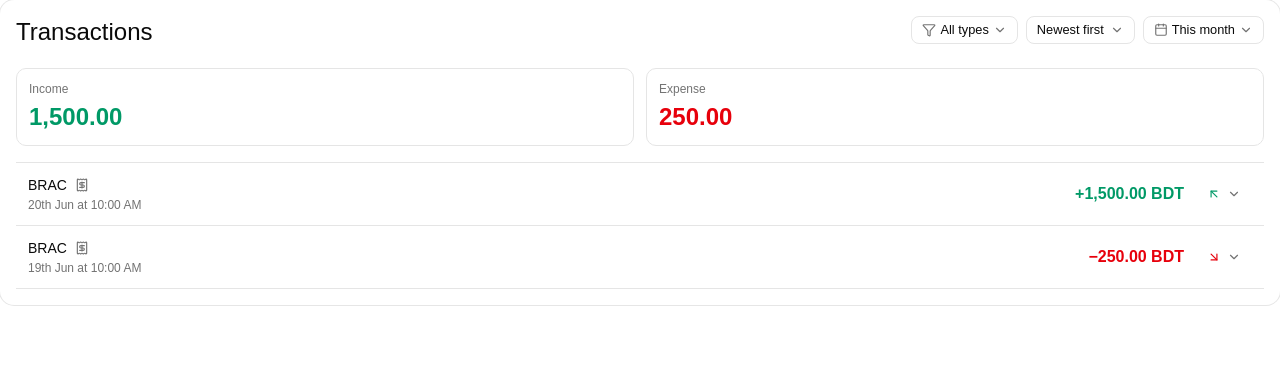
Scenario: TransactionsSection › expands a transaction row to show its source message
Expected: the text "+1,500.00 BDT" is shown, 1075,182 -> 1184,206
Click the button with aria-label "toggle message for brac" at {"x": 47, "y": 185}, box 28,177 -> 1252,212
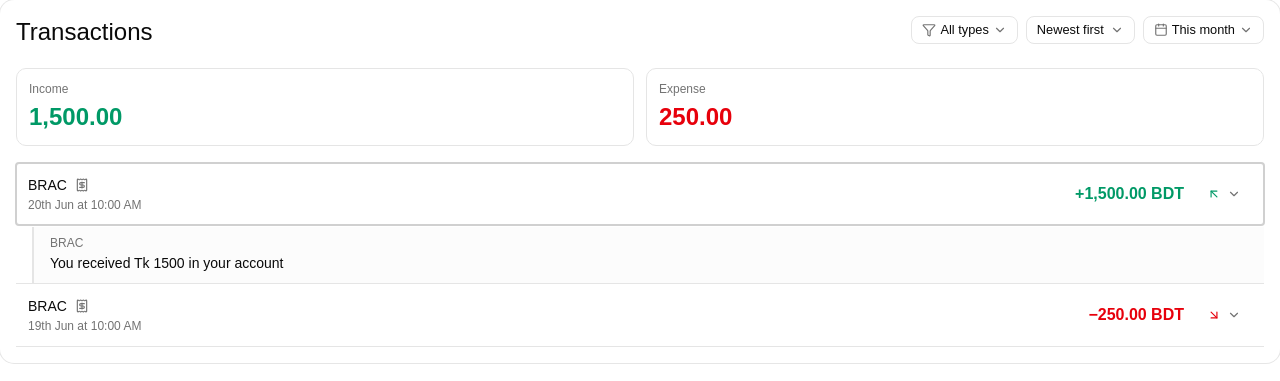
Expected: the text "You received Tk 1500 in your account" is shown, 50,255 -> 284,271
